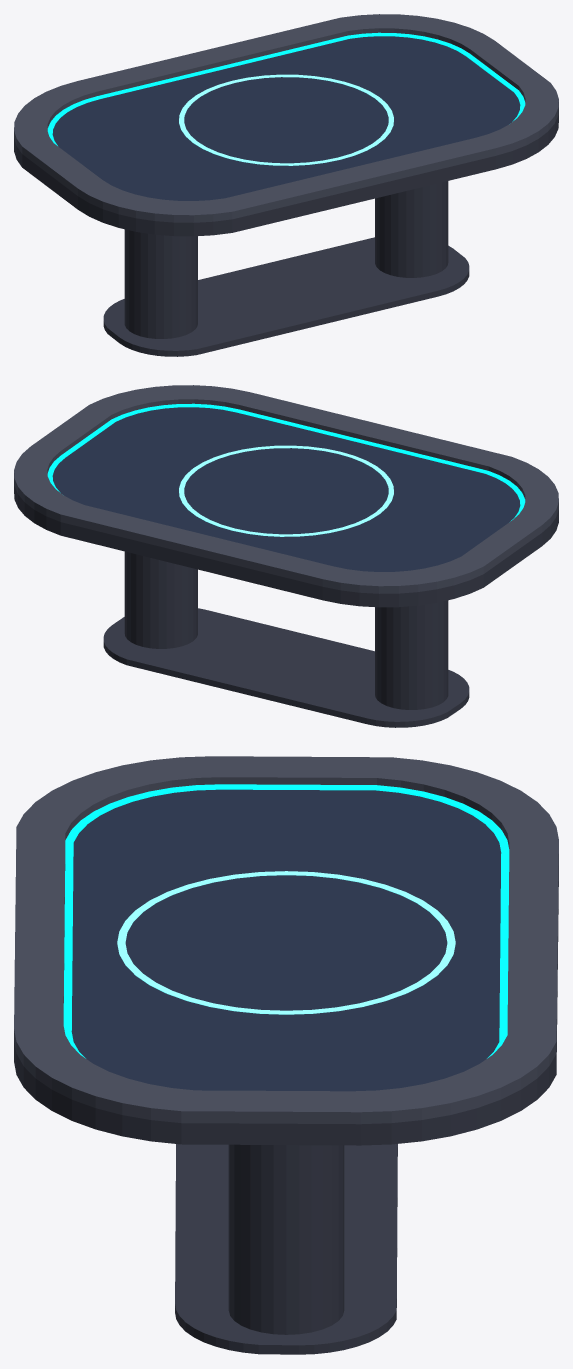
Rendered from table_arcade.glb.
3 views of the same model, one above another, from view 1: azimuth 30°, elevation 25°; view 2: azimuth 150°, elevation 25°; view 3: azimuth 270°, elevation 25° (orthographic). The views are drawn at different scales.
Parts seen in each view (by area): view 1: ArcadeFelt, ArcadeArmrestRail, ArcadeFloorBase, ArcadeChassis, ArcadeLeg_1, ArcadeLeg_2, ArcadeNeonTrim, ArcadeCenterZone; view 2: ArcadeFelt, ArcadeArmrestRail, ArcadeFloorBase, ArcadeChassis, ArcadeLeg_1, ArcadeLeg_2, ArcadeNeonTrim, ArcadeCenterZone; view 3: ArcadeFelt, ArcadeArmrestRail, ArcadeFloorBase, ArcadeLeg_2, ArcadeChassis, ArcadeNeonTrim, ArcadeCenterZone.
Boxes of the visible parts, x1,y1,x2,y2 form: ArcadeFelt: (52, 36, 520, 200); ArcadeArmrestRail: (14, 14, 558, 222); ArcadeFloorBase: (103, 237, 469, 356); ArcadeChassis: (14, 110, 558, 236); ArcadeLeg_1: (124, 229, 197, 338); ArcadeLeg_2: (375, 181, 448, 277); ArcadeNeonTrim: (47, 32, 525, 145); ArcadeCenterZone: (179, 74, 393, 165); ArcadeFelt: (52, 407, 520, 571); ArcadeArmrestRail: (14, 385, 558, 593); ArcadeFloorBase: (103, 608, 469, 727); ArcadeChassis: (14, 481, 558, 607); ArcadeLeg_1: (375, 600, 448, 709); ArcadeLeg_2: (124, 551, 197, 648); ArcadeNeonTrim: (47, 403, 525, 521); ArcadeCenterZone: (179, 445, 393, 536); ArcadeFelt: (71, 789, 501, 1091); ArcadeArmrestRail: (14, 756, 558, 1124); ArcadeFloorBase: (175, 1144, 397, 1354); ArcadeLeg_2: (228, 1144, 344, 1334); ArcadeChassis: (14, 866, 558, 1145); ArcadeNeonTrim: (63, 784, 509, 1058); ArcadeCenterZone: (117, 871, 455, 1014).
Size of the model in its own units: 2.04 by 0.774 by 1.32.
